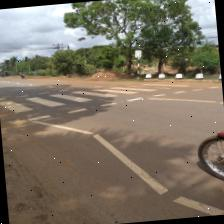crossing: (0, 76, 224, 224)
